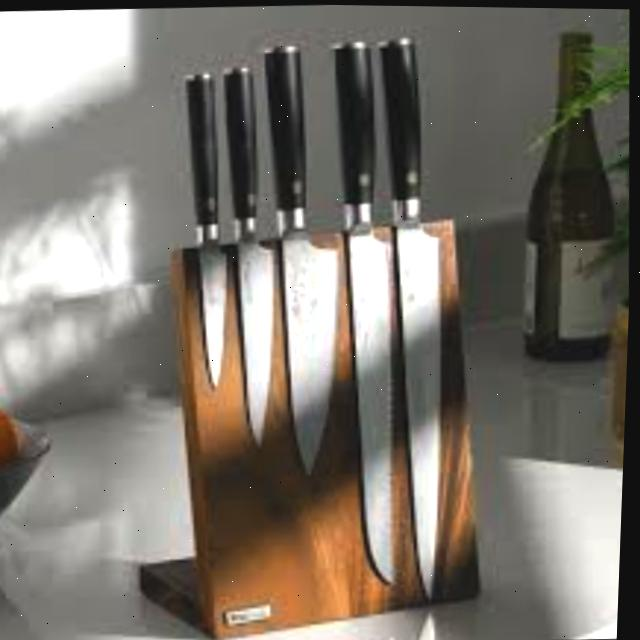Knife: (361, 32, 499, 602), (314, 36, 419, 585), (250, 38, 350, 475), (211, 63, 284, 449), (173, 67, 235, 386)
